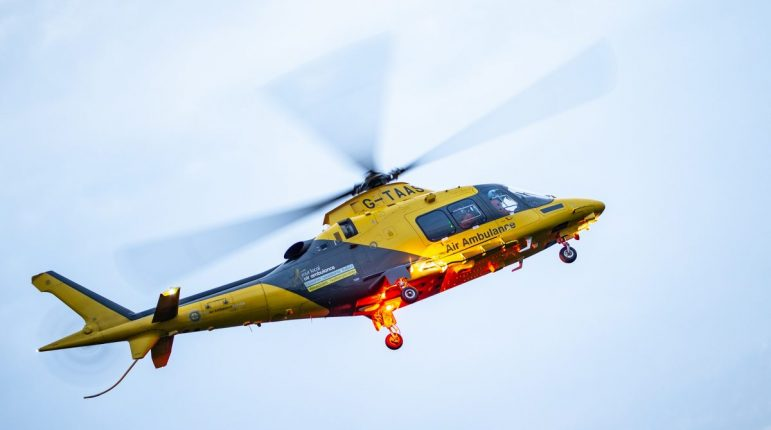heli: (29, 165, 607, 368)
